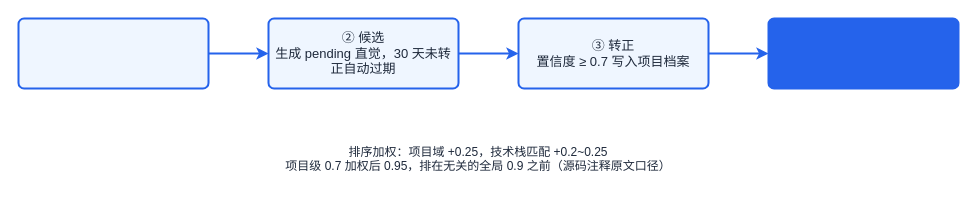
Some shapes in this 976 by 205 pixel diagram are drawn without their labels. Each missing label, with the centre of its shape:
"① 观察 钩子记录每一次工具调用" goes at (113,53).
"④ 注入 SessionStart 取最相关 6 条进上下文" goes at (863,53).
